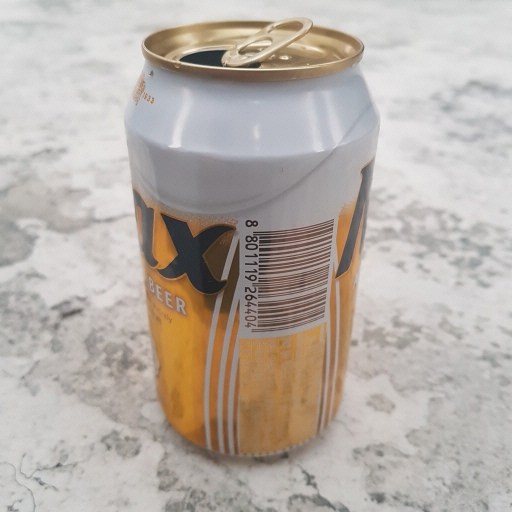Metal_0: (125, 22, 380, 463)
